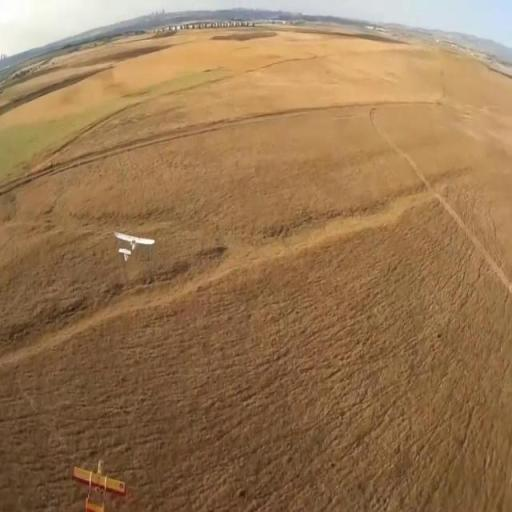uav: (72, 458, 127, 512), (114, 228, 154, 262)
